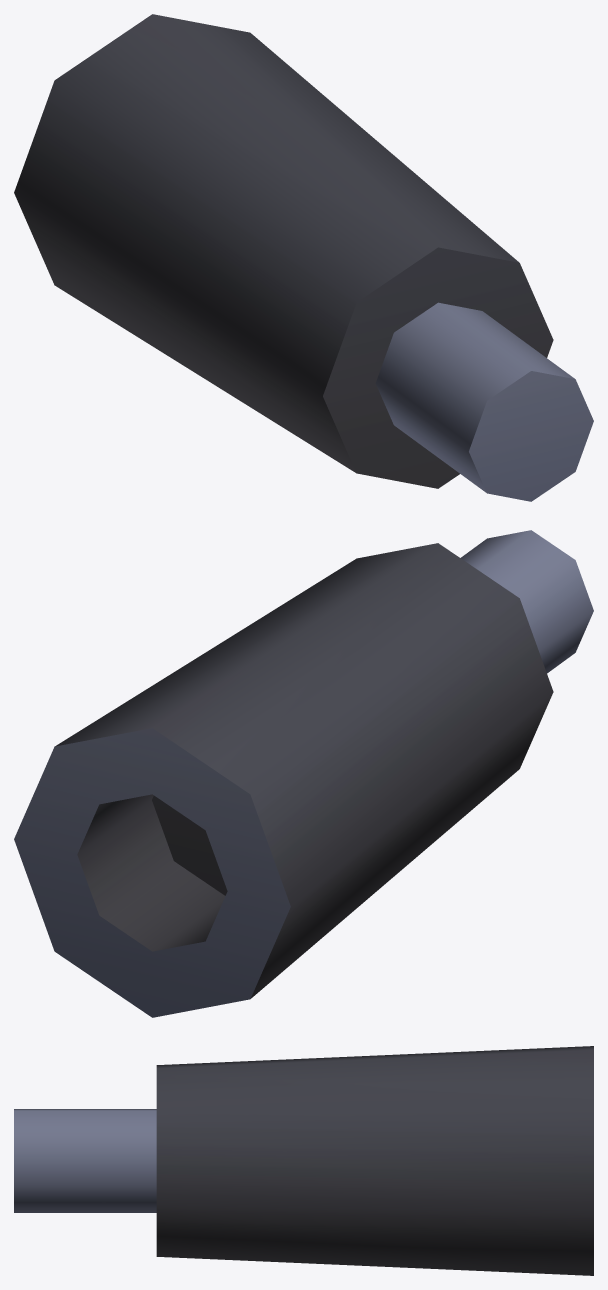
File: kenney-blaster-silencer-small.glb
3 renders of one model, top to bottom at view 1: azimuth 30°, elevation 25°; view 2: azimuth 150°, elevation 25°; view 3: azimuth 270°, elevation 25°, orthographic. The views are drawn at different scales.
Visible parts, largest first — view 1: silencer-small; view 2: silencer-small; view 3: silencer-small.
Boxes of the visible parts, x1,y1,x2,y2 form: silencer-small: (14, 14, 593, 501); silencer-small: (14, 530, 593, 1017); silencer-small: (14, 1046, 593, 1275).
Bounding box in the file's own units: 0.1029 × 0.1029 × 0.244.
1 material, 1 textured.
